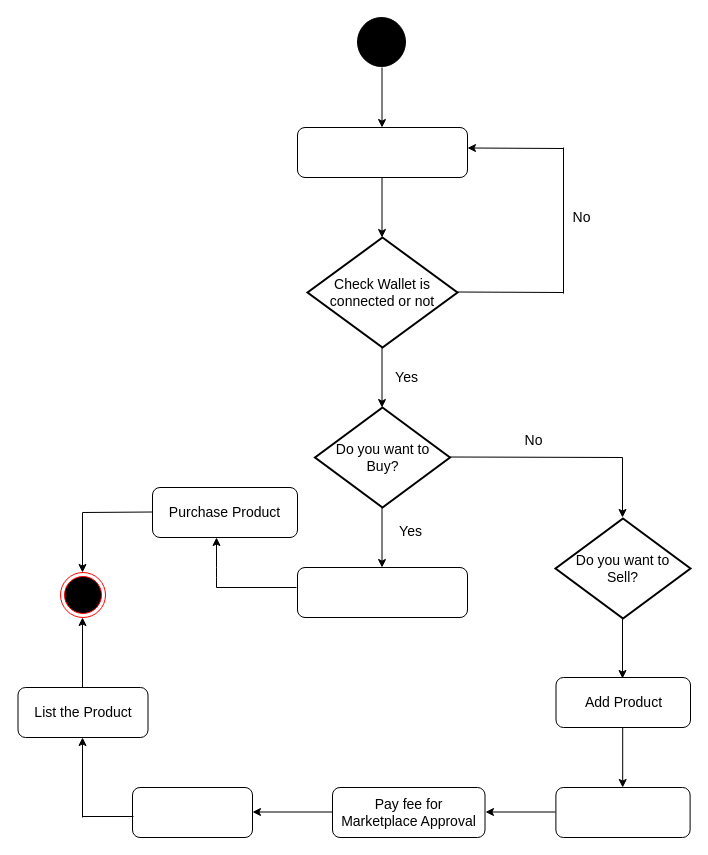
The diagram is 708 pixels wide and 855 high, and some of its shapes have lost their labels. The shapes that lost their labels are listed below. From the top down, each one's centre as x and y in pixels, then its label:
(382,152): Connect to Network
(382,592): Browse Product
(192,812): Pay the Contract Fee
(622,812): Pay fee for product mint
